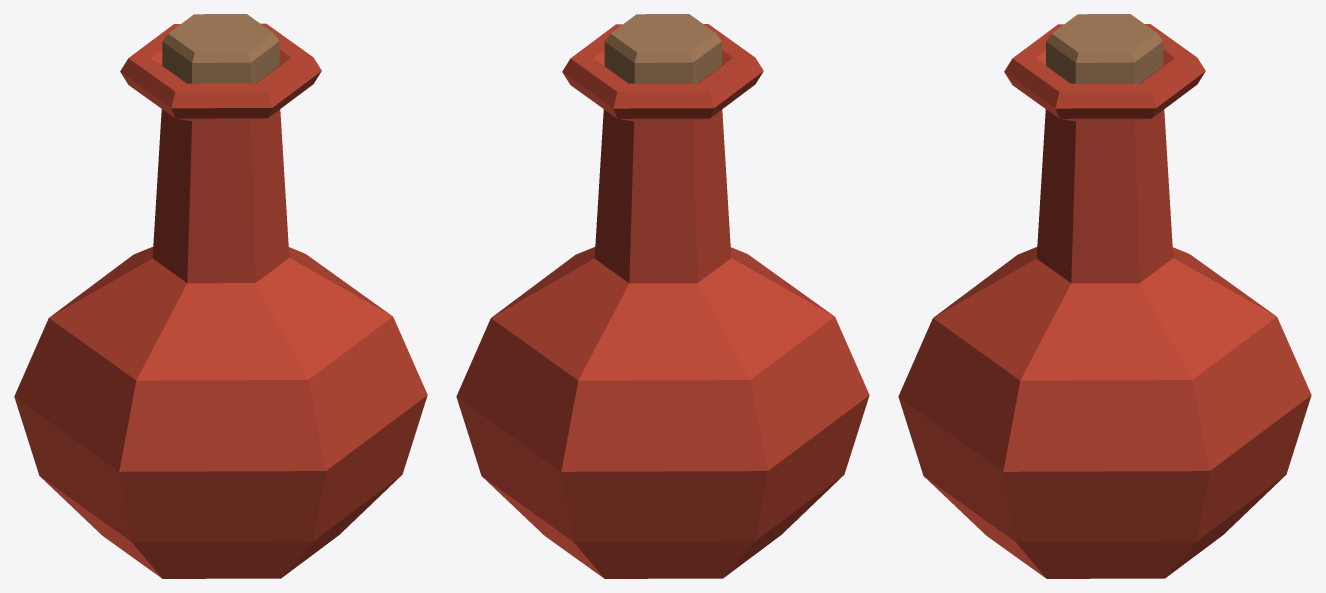
The model's file is potion_11.glb.
3 views of the same model, side by side, from view 1: azimuth 30°, elevation 25°; view 2: azimuth 150°, elevation 25°; view 3: azimuth 270°, elevation 25° (orthographic).
Parts seen in each view (by area): view 1: potion_11; view 2: potion_11; view 3: potion_11.
Part boxes in pixels (x1,y1,x2,y2): potion_11: [14, 14, 427, 578]; potion_11: [456, 14, 869, 578]; potion_11: [898, 14, 1311, 578].
Size of the model in its own units: 0.1805 by 0.2778 by 0.2073.
Materials: 2 (2 with a texture image).
